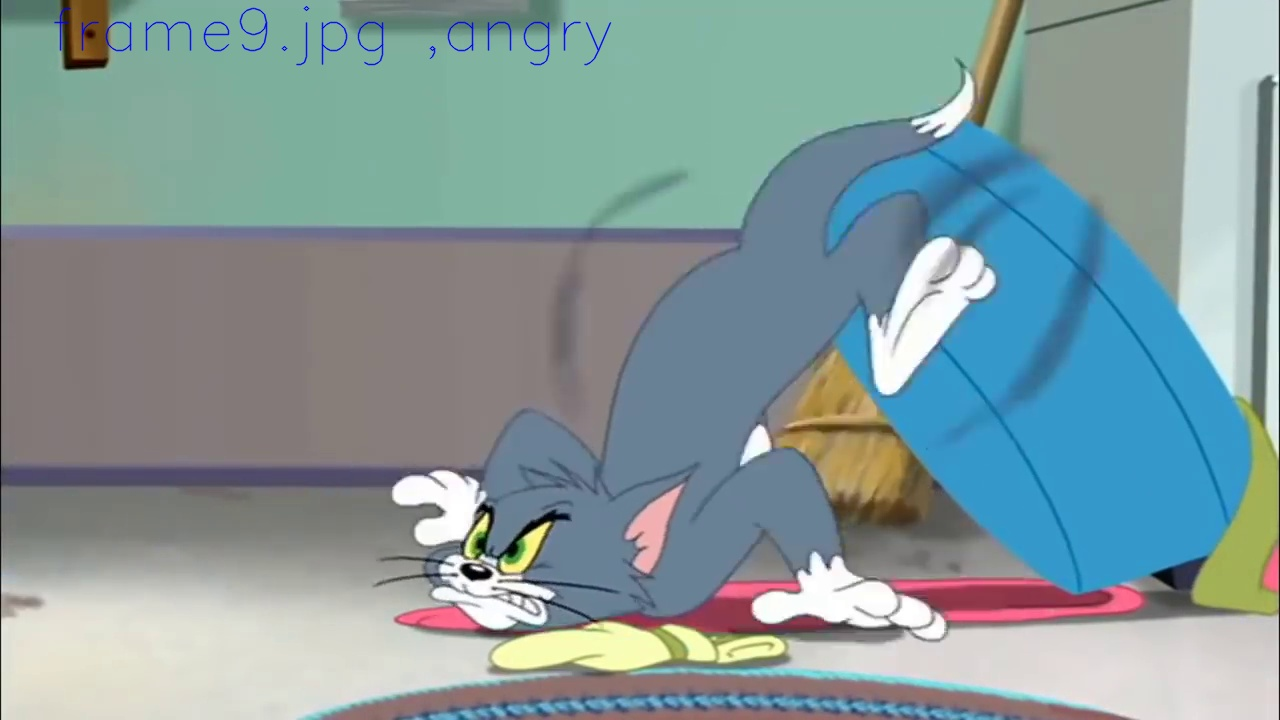angry: (427, 499, 575, 624)
